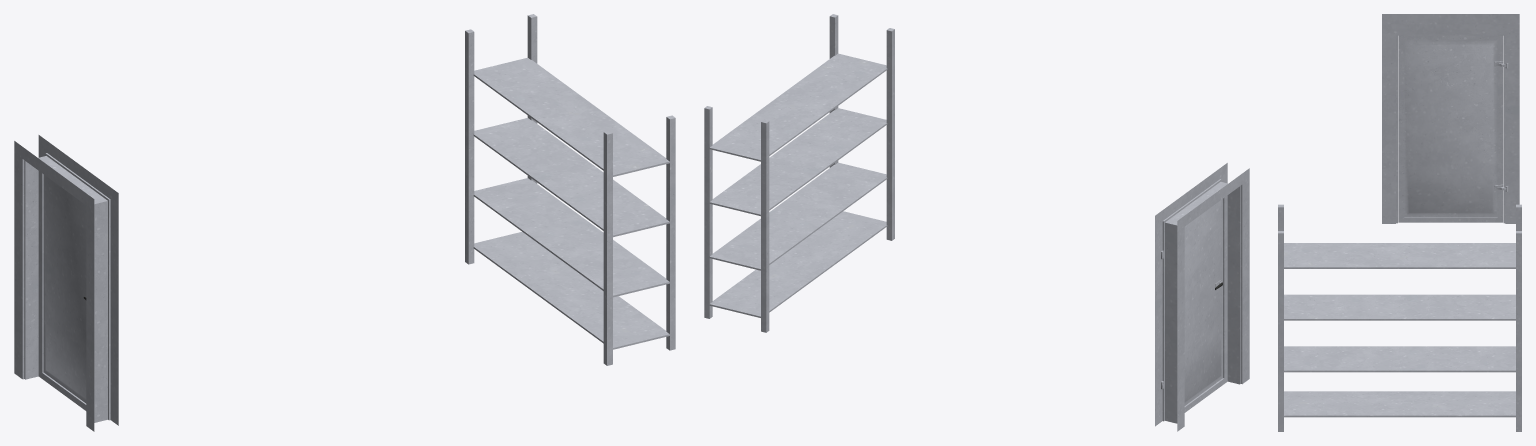
The model's file is dolap.fbx.
The picture shows the model from 3 angles, left to right: view 1: azimuth 30°, elevation 25°; view 2: azimuth 150°, elevation 25°; view 3: azimuth 270°, elevation 25°; orthographic projection. The views are drawn at different scales.
Parts seen in each view (by area): view 1: raf, ccerceve_Dolap, kapı_dolap; view 2: raf, ccerceve_Dolap, kapı_dolap; view 3: raf, kapı_dolap, ccerceve_Dolap.
Boxes of the visible parts, box(x1,y1,x2,y2) form: raf: box(465, 14, 675, 365); ccerceve_Dolap: box(14, 135, 118, 431); kapı_dolap: box(38, 156, 105, 410); raf: box(704, 14, 894, 332); ccerceve_Dolap: box(1155, 163, 1249, 431); kapı_dolap: box(1166, 182, 1227, 412); raf: box(1278, 204, 1521, 431); kapı_dolap: box(1398, 35, 1506, 222); ccerceve_Dolap: box(1382, 14, 1519, 223).
Bounding box in the file's own units: 1087 × 464 × 514.
Materials: 1 (1 with a texture image).
